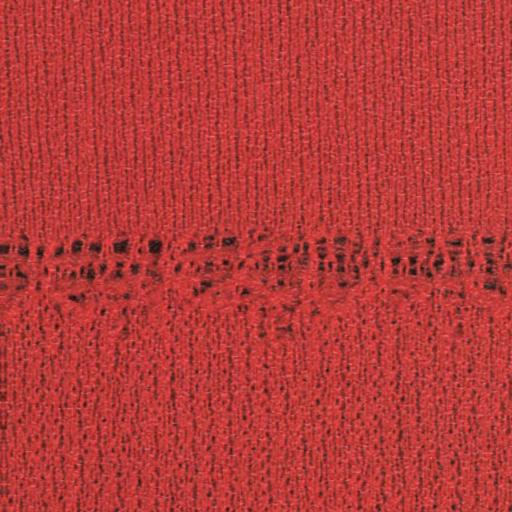slub: (2, 230, 512, 310)
